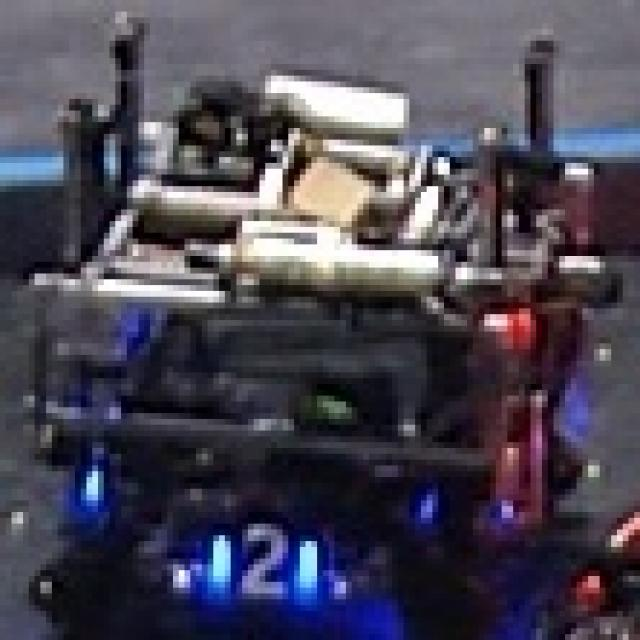B2: (207, 512, 323, 605)
